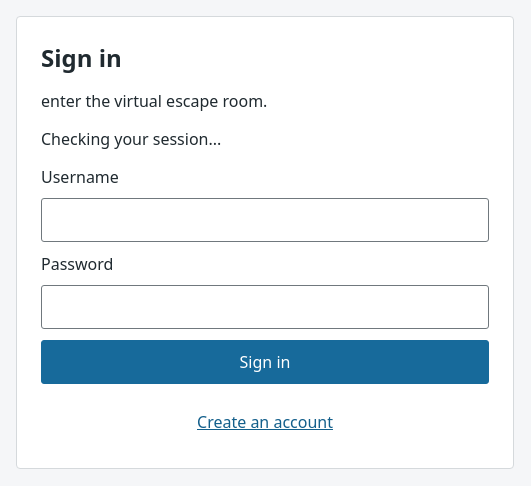
Test: Team 5 auth form validation › validates login password length and keeps username constraints explicit
Step 1. Type "player" into the field labelled "Username" → (265, 220), box [41,198,489,242]
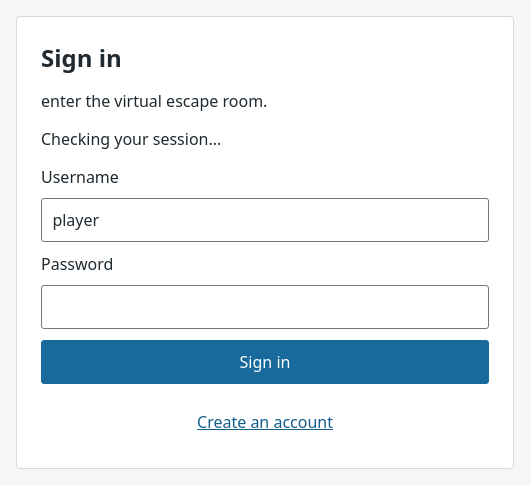
Step 2. Type "short" into the password field labelled "Password" → (265, 307), box [41,285,489,329]
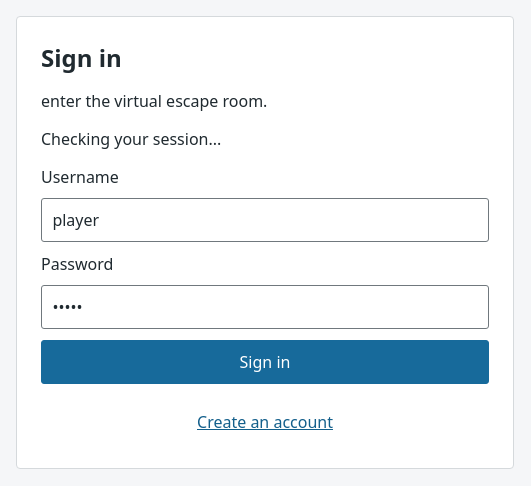
Step 3. Click the button "Sign in" → (265, 362), box [41,340,489,384]
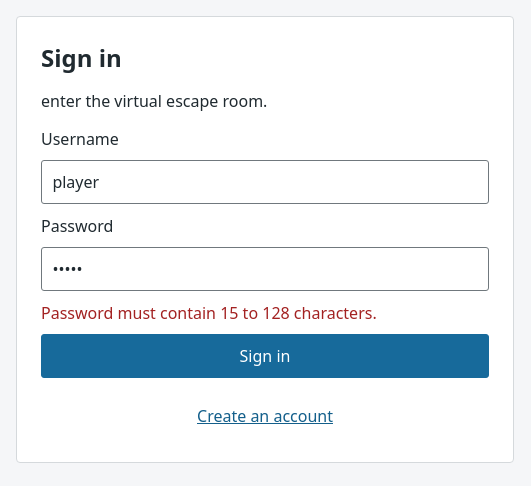
Check: the message shows "15 to 128 characters", box [41,302,377,324]
